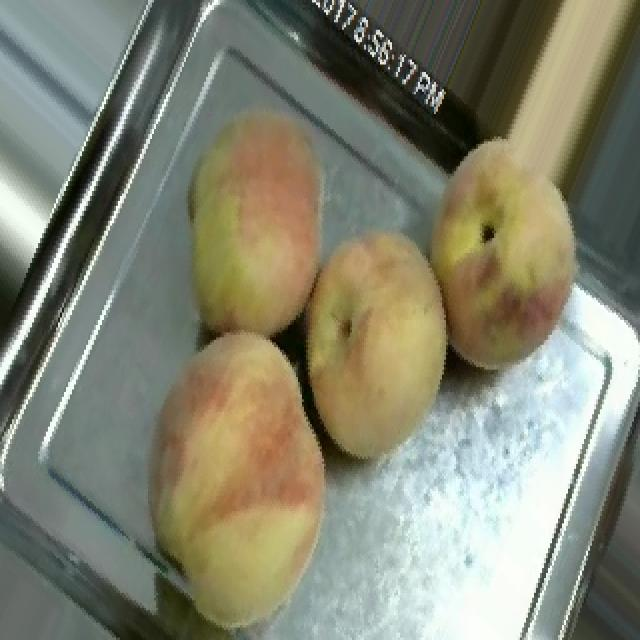Fruit: (112, 312, 368, 640), (386, 99, 614, 397), (150, 77, 364, 362), (280, 201, 482, 486)
